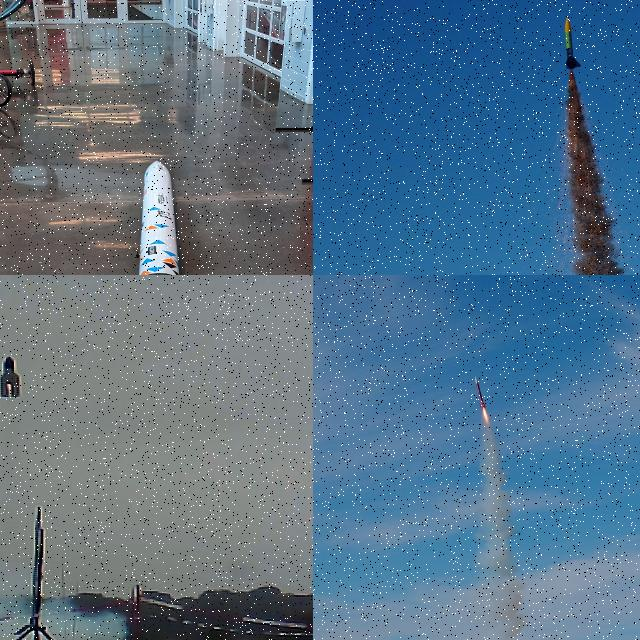Rocket: (136, 160, 180, 275), (562, 17, 582, 70), (0, 356, 21, 398), (474, 376, 486, 409)
